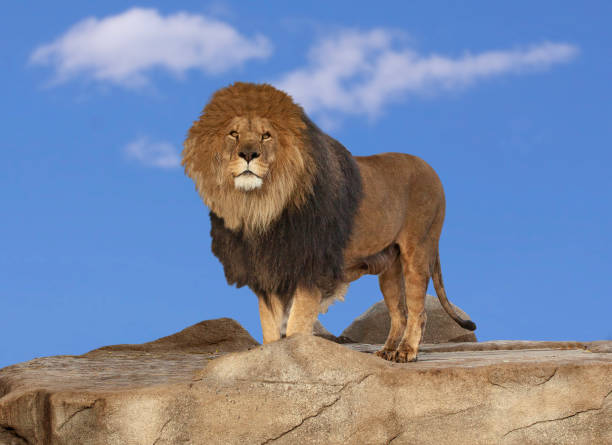lion: (152, 61, 383, 316)
